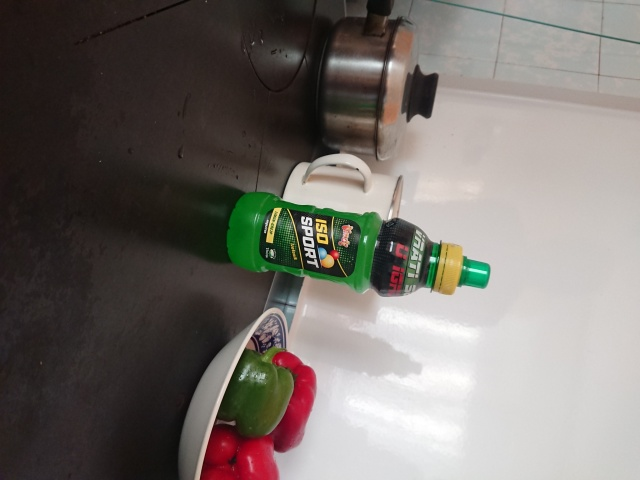Vindi Iso Sport Lemon-Grapefruit 500mL: (223, 189, 494, 301)
